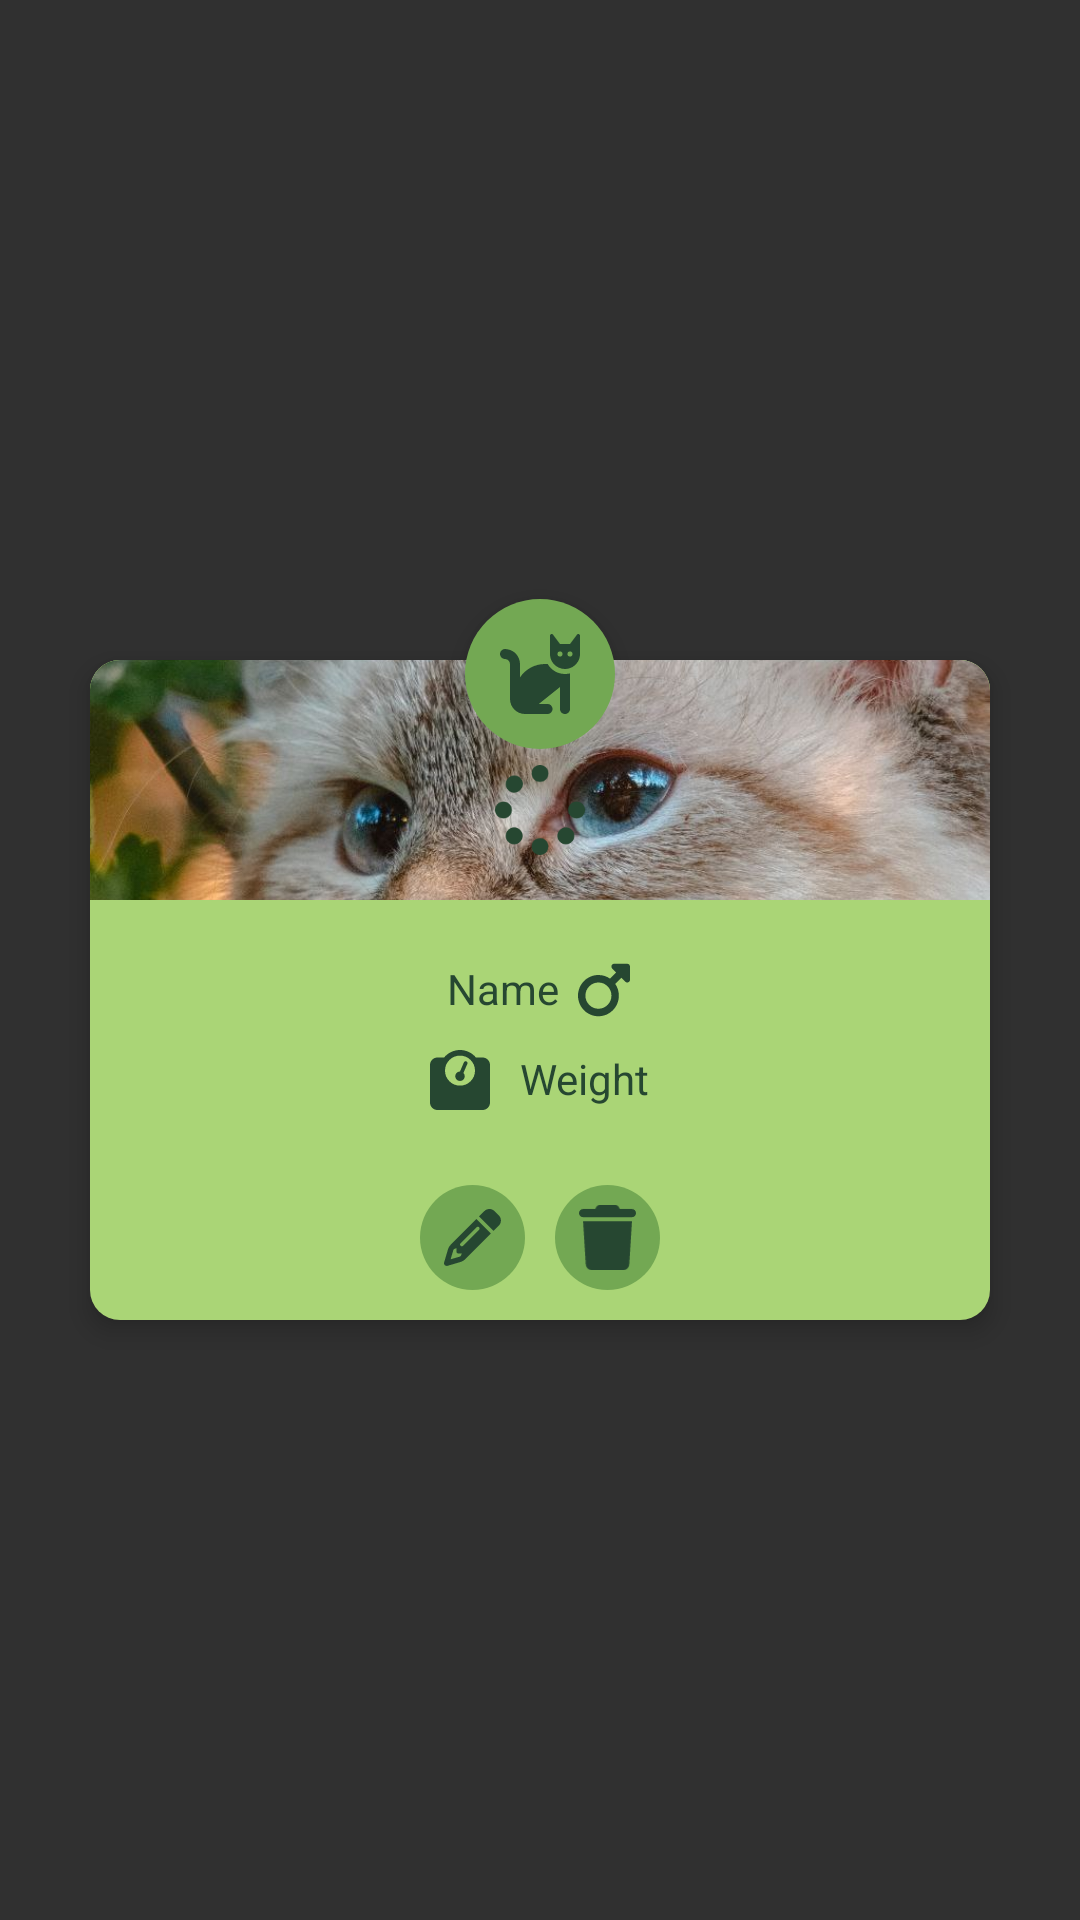

Named icons in this screenshot (1080x1920) and their bounding boxes, (x1, y1, x2, y2):
mars: (578, 963, 630, 1017)
pencil: (420, 1185, 525, 1290)
trash: (555, 1185, 660, 1290)
